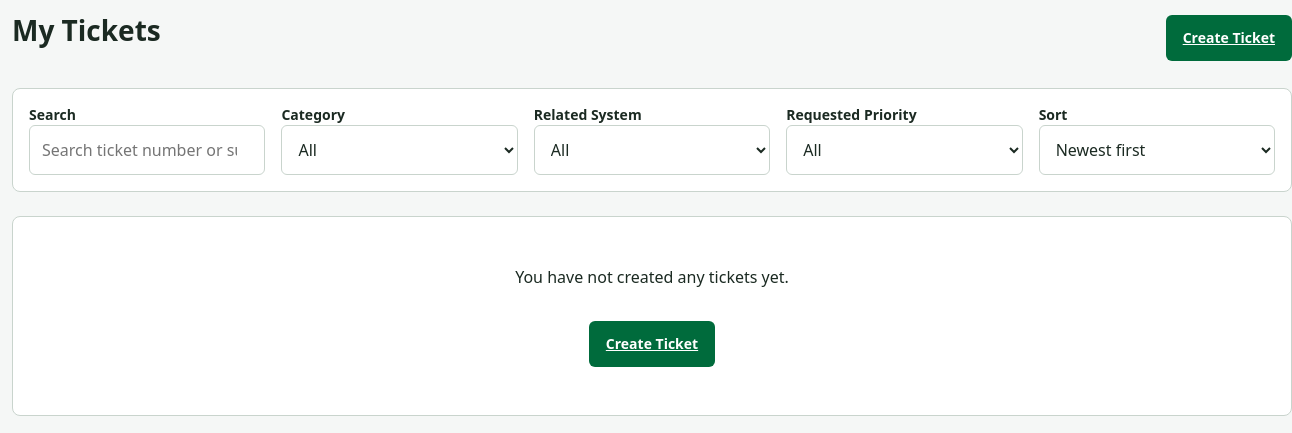
Test: MyTickets (UI-24 - AC-25) › distinguishes the two states by wording and by offered action
Select "Hardware" in the dropdown with test id "filter-category" at [400, 150], box [281,125,518,175]
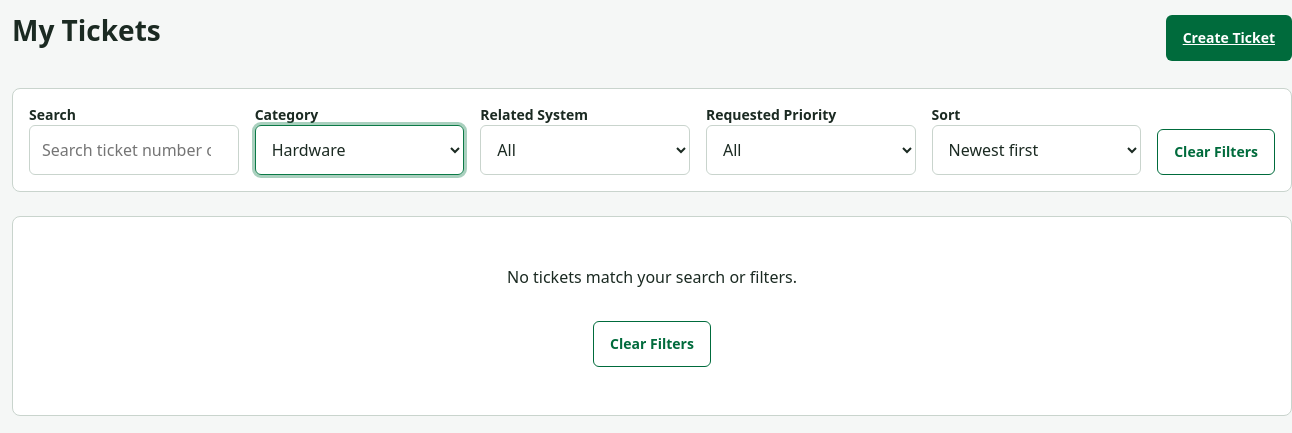
Now the button with test id "btn-clear-filters" is shown, box [1157,129,1275,175]
